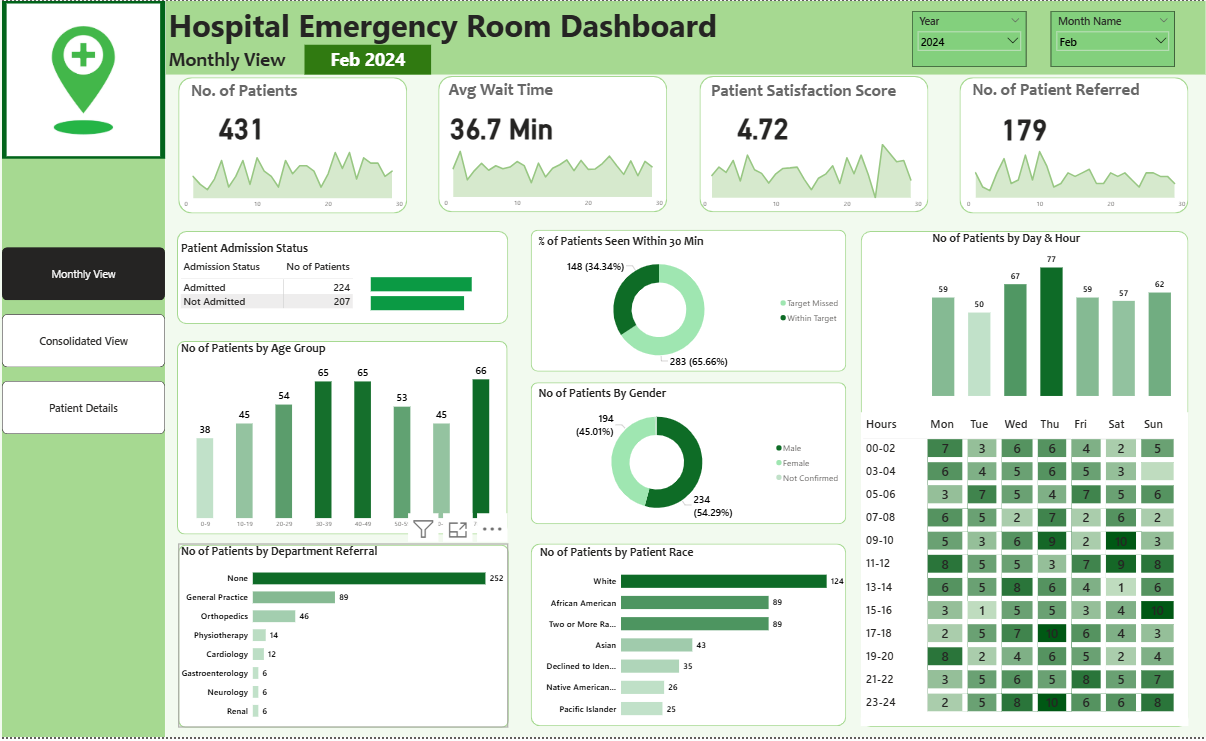

What the dashboard file says about the page in this screenshot:
{"tool":"powerbi","page":{"name":"Monthly View","canvas":[2300,1400],"ordinal":0},"visuals":[{"type":"shape","box":[10.4,0,310,1399.9],"z":0},{"type":"shape","box":[321.5,0,1978,140],"z":1000},{"type":"textbox","box":[321.5,0,1060.3,90.7],"z":2000},{"type":"shape","box":[344.8,145.2,435.5,259.2],"z":3000},{"type":"textbox","box":[321.5,83,241.1,57],"z":4000},{"type":"card","fields":{"Values":["Hospital ER_Data.No of Patients"]},"box":[344.8,171.1,241.1,129.6],"z":5000},{"type":"slicer","fields":{"Values":["Date Table.Year"]},"box":[1739.5,18.1,217.8,106.3],"z":6000},{"type":"slicer","fields":{"Values":["Date Table.Month Name"]},"box":[2004,18.1,235.9,106.3],"z":7000},{"type":"textbox","box":[362.9,145.2,241.1,57],"z":8000},{"type":"areaChart","fields":{"Category":["Date Table.Date.Variation.Date Hierarchy.Day"],"Y":["Hospital ER_Data.No of Patients"]},"box":[344.8,259.2,435.5,145.2],"z":9000},{"type":"card","fields":{"Values":["Min(Date Table.Month & Year)"]},"box":[585.9,83,241.1,57],"z":10000},{"type":"shape","box":[840,143.8,435.5,259.2],"z":11000},{"type":"card","fields":{"Values":["Hospital ER_Data.Avg Wait Time"]},"box":[840,171.1,241.1,129.6],"z":12000},{"type":"shape","box":[1335.1,141.7,435.5,259.2],"z":13000},{"type":"card","fields":{"Values":["Hospital ER_Data.Satisfaction Score"]},"box":[1335.1,171.1,241.1,129.6],"z":14000},{"type":"textbox","box":[1352.2,145.7,388.6,56.7],"z":15000},{"type":"areaChart","fields":{"Category":["Date Table.Date.Variation.Date Hierarchy.Day"],"Y":["Hospital ER_Data.Satisfaction Score"]},"box":[1332.5,259.2,435.5,145.2],"z":16000},{"type":"shape","box":[1830.3,145.2,435.5,259.2],"z":17000},{"type":"card","fields":{"Values":["Hospital ER_Data.No of Patient Referred"]},"box":[1832.9,173.7,241.1,129.6],"z":18000},{"type":"textbox","box":[1848.8,143,353.6,56.7],"z":19000},{"type":"areaChart","fields":{"Category":["Date Table.Date.Variation.Date Hierarchy.Day"],"Y":["Hospital ER_Data.No of Patient Referred"]},"box":[1832.9,259.2,435.5,145.2],"z":20000},{"type":"areaChart","fields":{"Category":["Date Table.Date.Variation.Date Hierarchy.Day"],"Y":["Avg(Hospital ER_Data.Patient Waittime)"]},"box":[840,256.7,435.5,145.2],"z":21000},{"type":"textbox","box":[852.9,142.6,241.1,57],"z":22000},{"type":"shape","box":[342.8,437.2,630,177],"z":23000},{"type":"pivotTable","title":"Patient Admission Status","fields":{"Rows":["Hospital ER_Data.Admission Status"],"Values":["Hospital ER_Data.No of Patients"]},"box":[344.8,456.5,627.7,156.9],"z":24000},{"type":"barChart","fields":{"Category":["Hospital ER_Data.Admission Status"],"Y":["Hospital ER_Data.No of Patients"]},"box":[707.1,493.9,267.2,118.8],"z":25000},{"type":"shape","box":[342.8,647.7,628.9,368],"z":26000},{"type":"clusteredColumnChart","fields":{"Category":["Hospital ER_Data.Age Group"],"Y":["Hospital ER_Data.No of Patients"]},"box":[345.5,647.7,628.9,367.1],"z":27000},{"type":"shape","box":[345.5,1033.7,628.9,348.2],"z":28000},{"type":"clusteredBarChart","fields":{"Category":["Hospital ER_Data.Department Referral"],"Y":["Hospital ER_Data.No of Patients"]},"box":[345,1032.5,627.5,350],"z":29000},{"type":"shape","box":[1015.3,435.1,600,270],"z":30000},{"type":"donutChart","title":"% of Patients Seen Within 30 Min","fields":{"Category":["Hospital ER_Data.Waittime Status"],"Y":["Hospital ER_Data.No of Patients"]},"box":[1025,442.5,590,262.5],"z":31000},{"type":"shape","box":[1015.3,725.1,600,270],"z":32000},{"type":"donutChart","title":"No of Patients By Gender","fields":{"Y":["Hospital ER_Data.No of Patients"],"Category":["Hospital ER_Data.Patient Gender"]},"box":[1025,732.5,590,262.5],"z":33000},{"type":"shape","box":[1015,1032.5,600,347.5],"z":34000},{"type":"clusteredBarChart","title":"  No of Patients by Patient Race","fields":{"Category":["Hospital ER_Data.Patient Race"],"Y":["Hospital ER_Data.No of Patients"]},"box":[1026.7,1033.3,590,346.7],"z":35000},{"type":"shape","box":[1643.3,436.7,623.3,943.3],"z":36000},{"type":"pivotTable","fields":{"Rows":["Hospital ER_Data.Waittime Interval"],"Columns":["Date Table.Day Name"],"Values":["Hospital ER_Data.No of Patients"]},"box":[1643.3,783.3,623.3,596.7],"z":37000},{"type":"columnChart","title":"No of Patients by Day & Hour","fields":{"Category":["Date Table.Day Name"],"Y":["Hospital ER_Data.No of Patients"]},"box":[1773.3,436.7,466.7,320],"z":38000},{"type":"image","box":[10,0,310,300],"z":39000},{"type":"pageNavigator","box":[10.5,468.4,310.5,355.3],"z":39001}]}

Visuals, with their boxes in screenshot pixels (x1, y1, x2, y2), scaled from the page's 2300x1400 canvas onto the 1206x741 screenshot:
shape: x1=5 y1=0 x2=168 y2=740
shape: x1=169 y1=0 x2=1205 y2=74
textbox: x1=169 y1=0 x2=725 y2=48
shape: x1=181 y1=77 x2=409 y2=214
textbox: x1=169 y1=44 x2=295 y2=74
card - Hospital ER_Data.No of Patients: x1=181 y1=91 x2=307 y2=159
slicer - Date Table.Year: x1=912 y1=10 x2=1026 y2=66
slicer - Date Table.Month Name: x1=1051 y1=10 x2=1174 y2=66
textbox: x1=190 y1=77 x2=317 y2=107
areaChart - Date Table.Date.Variation.Date Hierarchy.Day x Hospital ER_Data.No of Patients: x1=181 y1=137 x2=409 y2=214
card - Min(Date Table.Month & Year): x1=307 y1=44 x2=434 y2=74
shape: x1=440 y1=76 x2=669 y2=213
card - Hospital ER_Data.Avg Wait Time: x1=440 y1=91 x2=567 y2=159
shape: x1=700 y1=75 x2=928 y2=212
card - Hospital ER_Data.Satisfaction Score: x1=700 y1=91 x2=826 y2=159
textbox: x1=709 y1=77 x2=913 y2=107
areaChart - Date Table.Date.Variation.Date Hierarchy.Day x Hospital ER_Data.Satisfaction Score: x1=699 y1=137 x2=927 y2=214
shape: x1=960 y1=77 x2=1188 y2=214
card - Hospital ER_Data.No of Patient Referred: x1=961 y1=92 x2=1087 y2=161
textbox: x1=969 y1=76 x2=1155 y2=106
areaChart - Date Table.Date.Variation.Date Hierarchy.Day x Hospital ER_Data.No of Patient Referred: x1=961 y1=137 x2=1189 y2=214
areaChart - Date Table.Date.Variation.Date Hierarchy.Day x Avg(Hospital ER_Data.Patient Waittime): x1=440 y1=136 x2=669 y2=213
textbox: x1=447 y1=75 x2=574 y2=106
shape: x1=180 y1=231 x2=510 y2=325
"Patient Admission Status" pivotTable: x1=181 y1=242 x2=510 y2=325
barChart - Hospital ER_Data.Admission Status x Hospital ER_Data.No of Patients: x1=371 y1=261 x2=511 y2=324
shape: x1=180 y1=343 x2=510 y2=538
clusteredColumnChart - Hospital ER_Data.Age Group x Hospital ER_Data.No of Patients: x1=181 y1=343 x2=511 y2=537
shape: x1=181 y1=547 x2=511 y2=731
clusteredBarChart - Hospital ER_Data.Department Referral x Hospital ER_Data.No of Patients: x1=181 y1=546 x2=510 y2=732
shape: x1=532 y1=230 x2=847 y2=373
"% of Patients Seen Within 30 Min" donutChart: x1=537 y1=234 x2=847 y2=373
shape: x1=532 y1=384 x2=847 y2=527
"No of Patients By Gender" donutChart: x1=537 y1=388 x2=847 y2=527
shape: x1=532 y1=546 x2=847 y2=730
"  No of Patients by Patient Race" clusteredBarChart: x1=538 y1=547 x2=848 y2=730
shape: x1=862 y1=231 x2=1188 y2=730
pivotTable - Hospital ER_Data.Waittime Interval x Date Table.Day Name: x1=862 y1=415 x2=1188 y2=730
"No of Patients by Day & Hour" columnChart: x1=930 y1=231 x2=1175 y2=401
image: x1=5 y1=0 x2=168 y2=159
pageNavigator: x1=6 y1=248 x2=168 y2=436
